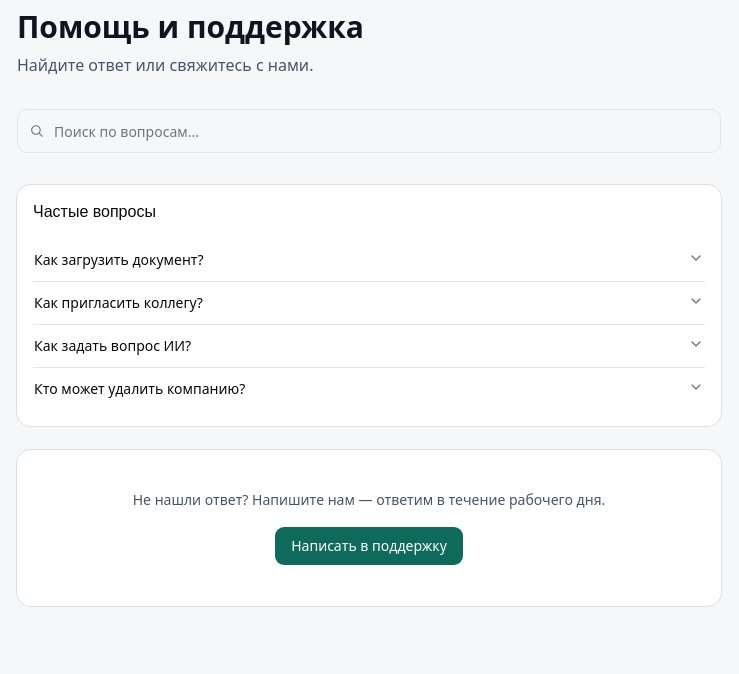
Test: SupportPage › раскрывает ответ на вопрос о приглашении коллеги
This screenshot has width=739, height=674.
Step 1. Click the button "Как пригласить коллегу?" → [118, 302], box [33,282,705,324]
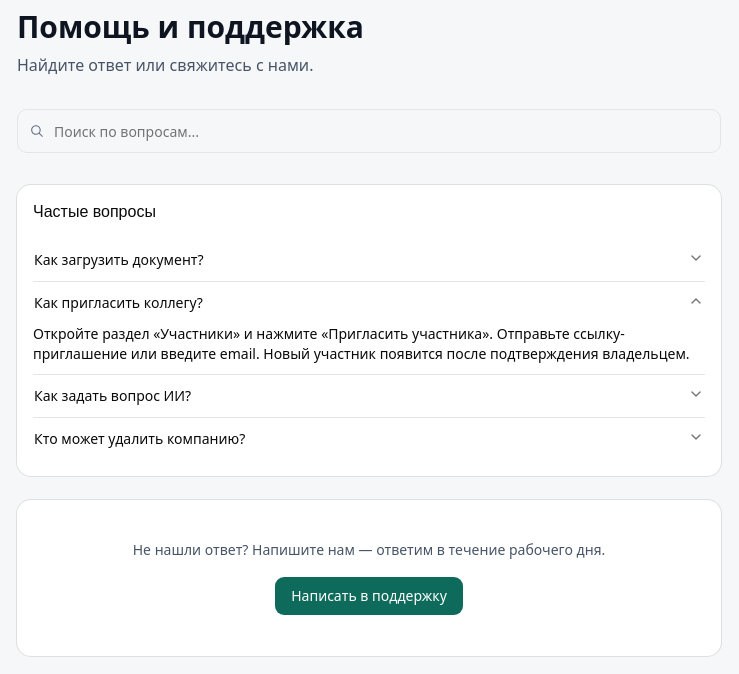
Expected: the text "Новый участник появится после подтверждения владельцем" is shown, [33,324,690,363]
